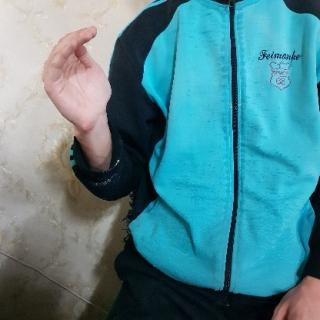HAA: (38, 24, 116, 132)
